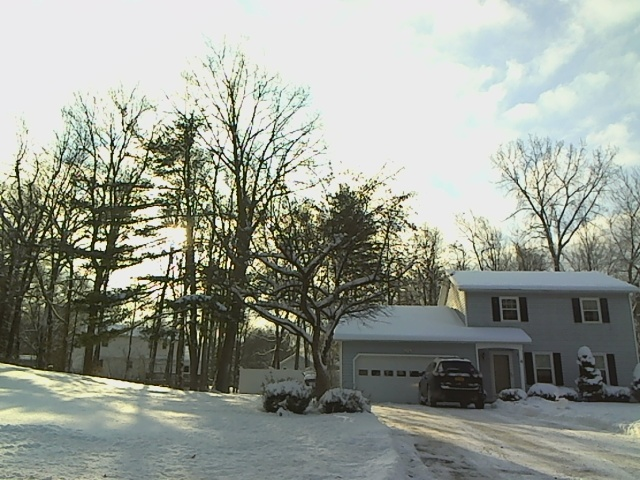Ploughed: (380, 410, 638, 480)
